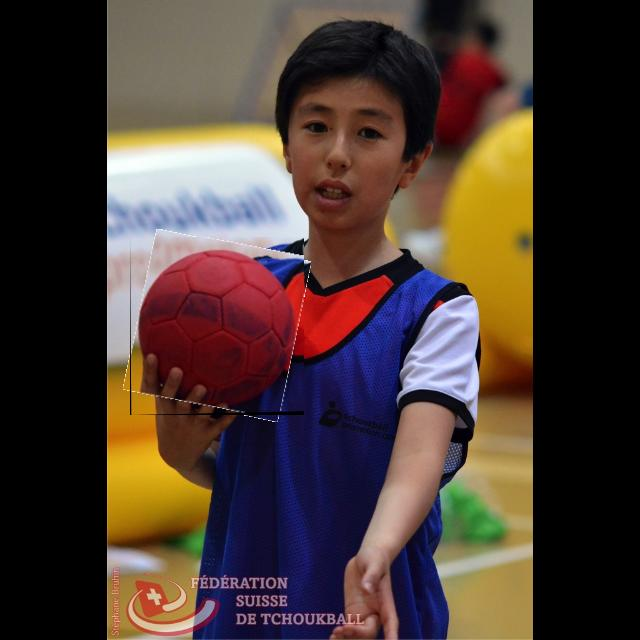Football: (130, 237, 304, 415)
